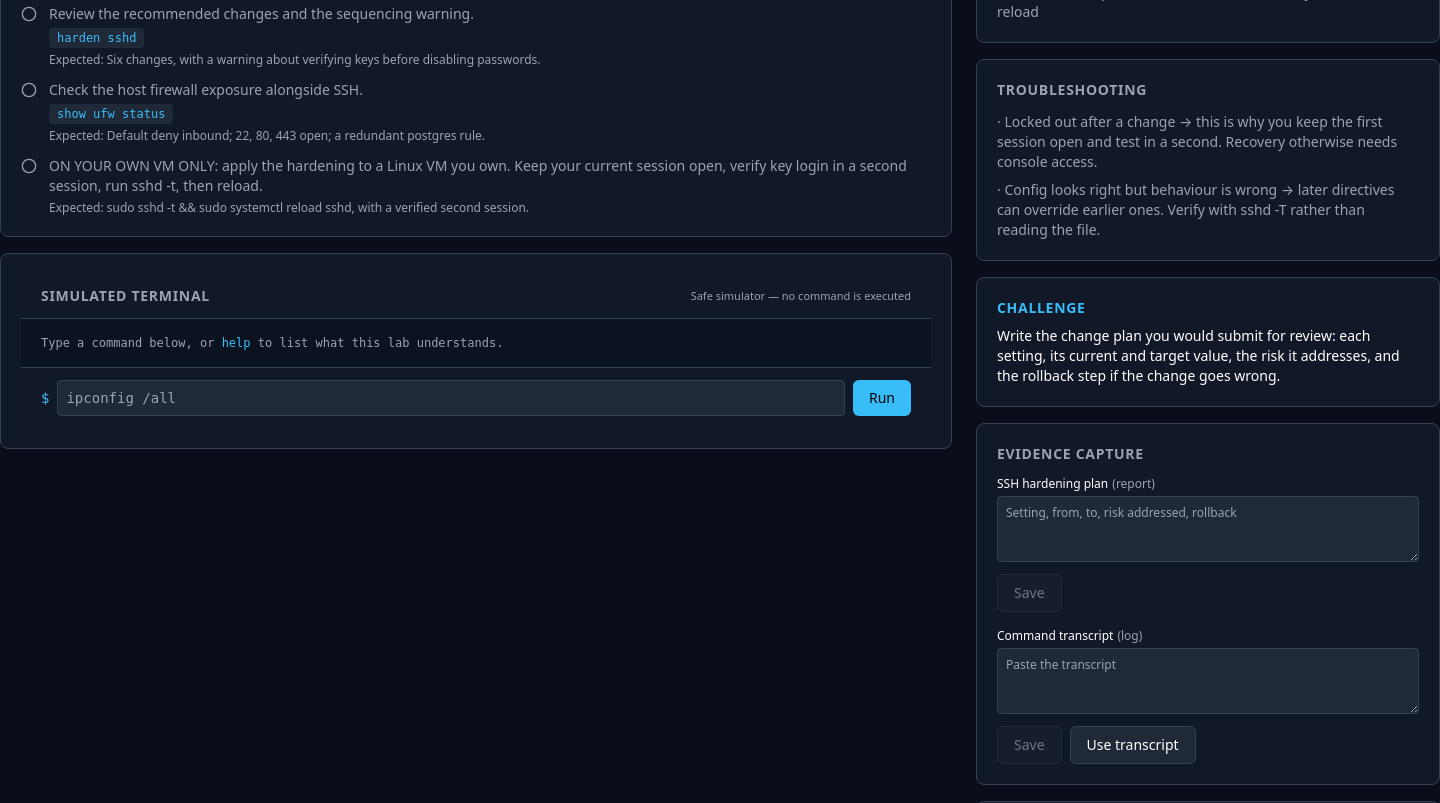
Test: Phase 9 labs and quizzes › shows the lockout warning in the SSH hardening lab
This screenshot has width=1440, height=803.
(page scrolled)
Step 1. Type "harden sshd" into the field named "Simulated command input" → (451, 398), box [57,380,845,416]
Then press Enter
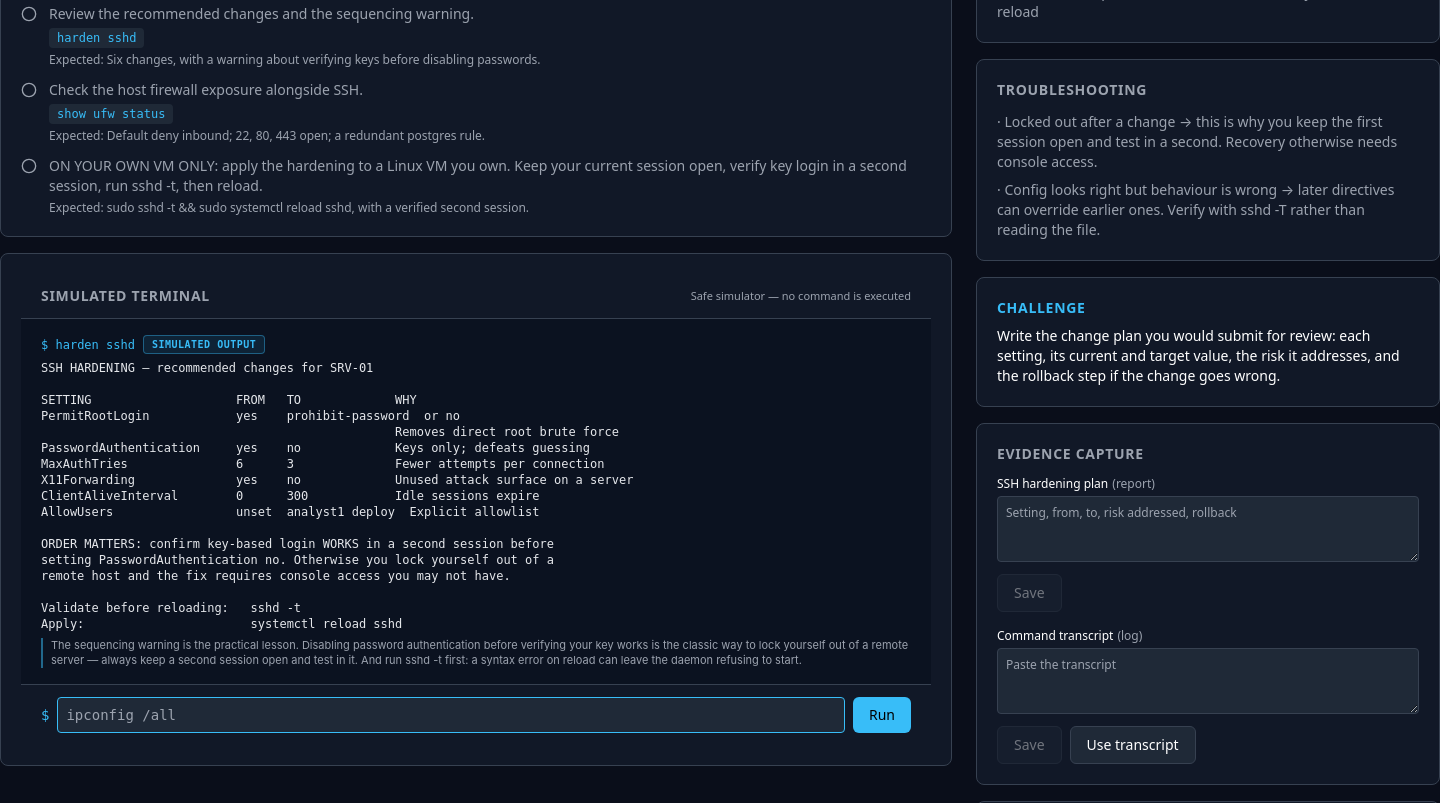
Expected: the text "ORDER MATTERS" is shown, [41,361,633,631]
